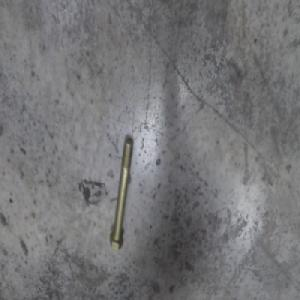Bolt: (109, 138, 134, 256)
